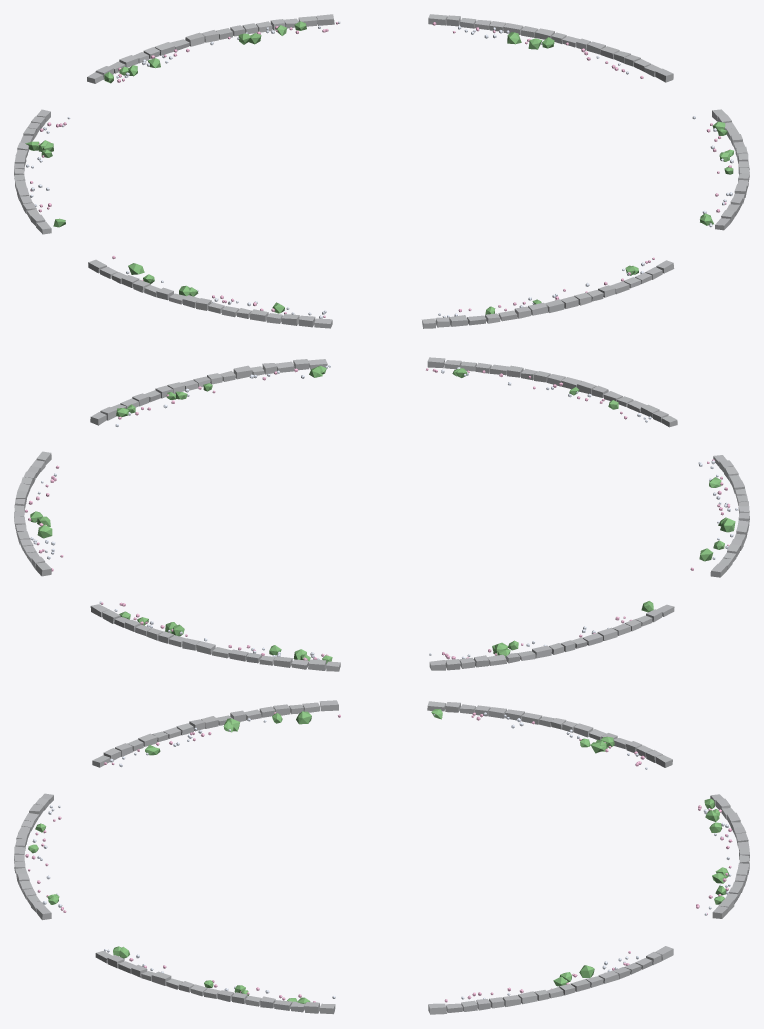
The model's file is lobby_garden_uv.fbx.
The picture shows the model from 3 angles, top to bottom: view 1: azimuth 30°, elevation 25°; view 2: azimuth 150°, elevation 25°; view 3: azimuth 270°, elevation 25°; orthographic projection.
Parts seen in each view (by area): view 1: LobbyGarden_Stone, LobbyGarden_Bush, LobbyGarden_Flowers, LobbyGarden_FlowersB; view 2: LobbyGarden_Stone, LobbyGarden_Bush, LobbyGarden_Flowers, LobbyGarden_FlowersB; view 3: LobbyGarden_Stone, LobbyGarden_Bush, LobbyGarden_Flowers, LobbyGarden_FlowersB.
Boxes of the visible parts, <box> form: LobbyGarden_Stone: <box>14,14,749,328</box>; LobbyGarden_Bush: <box>25,21,733,314</box>; LobbyGarden_Flowers: <box>30,22,731,317</box>; LobbyGarden_FlowersB: <box>26,21,733,318</box>; LobbyGarden_Stone: <box>14,357,749,671</box>; LobbyGarden_Bush: <box>30,365,735,663</box>; LobbyGarden_Flowers: <box>25,368,730,660</box>; LobbyGarden_FlowersB: <box>30,365,737,659</box>; LobbyGarden_Stone: <box>14,700,749,1014</box>; LobbyGarden_Bush: <box>28,709,728,1003</box>; LobbyGarden_Flowers: <box>25,712,732,1002</box>; LobbyGarden_FlowersB: <box>32,712,731,999</box>.
Bounding box in the file's own units: 173 × 3.61 × 175.
